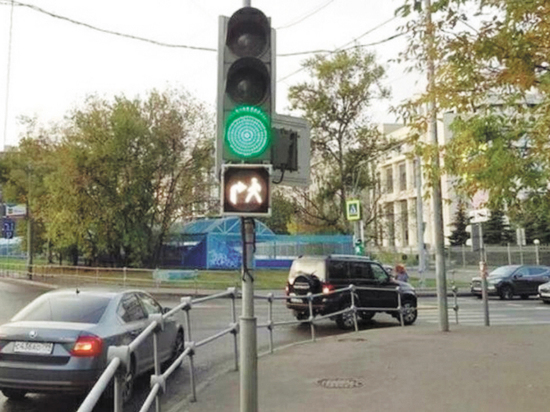tl: (219, 11, 277, 166)
